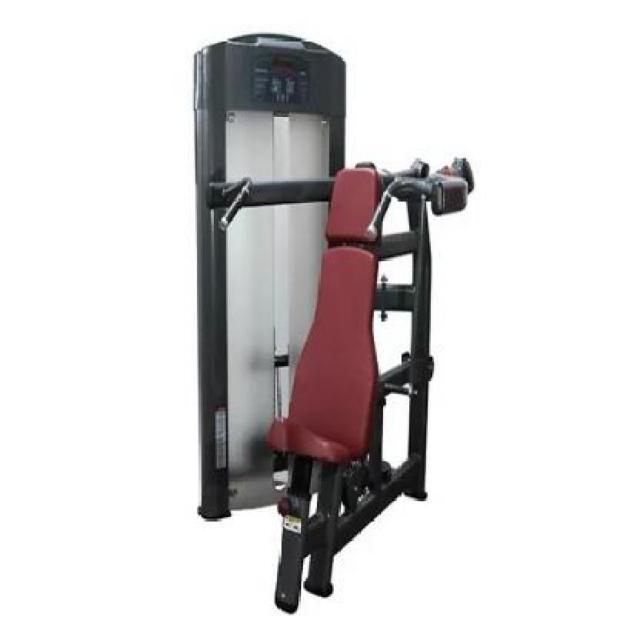shoulder press machine: (192, 27, 477, 616)
